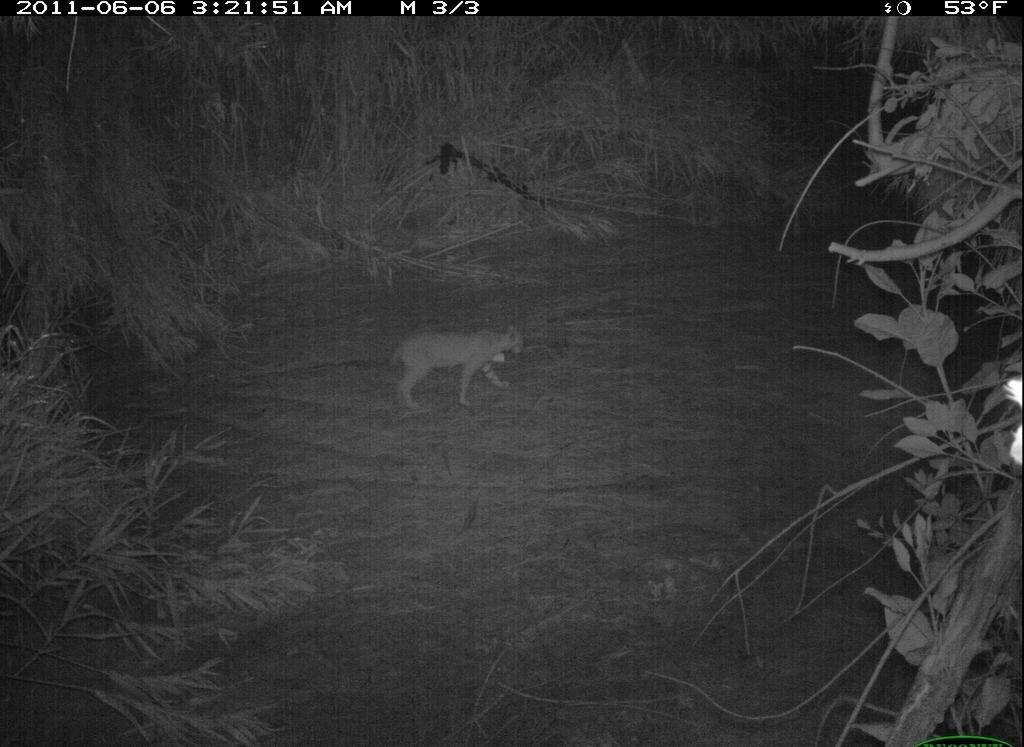bobcat: (386, 315, 537, 418)
